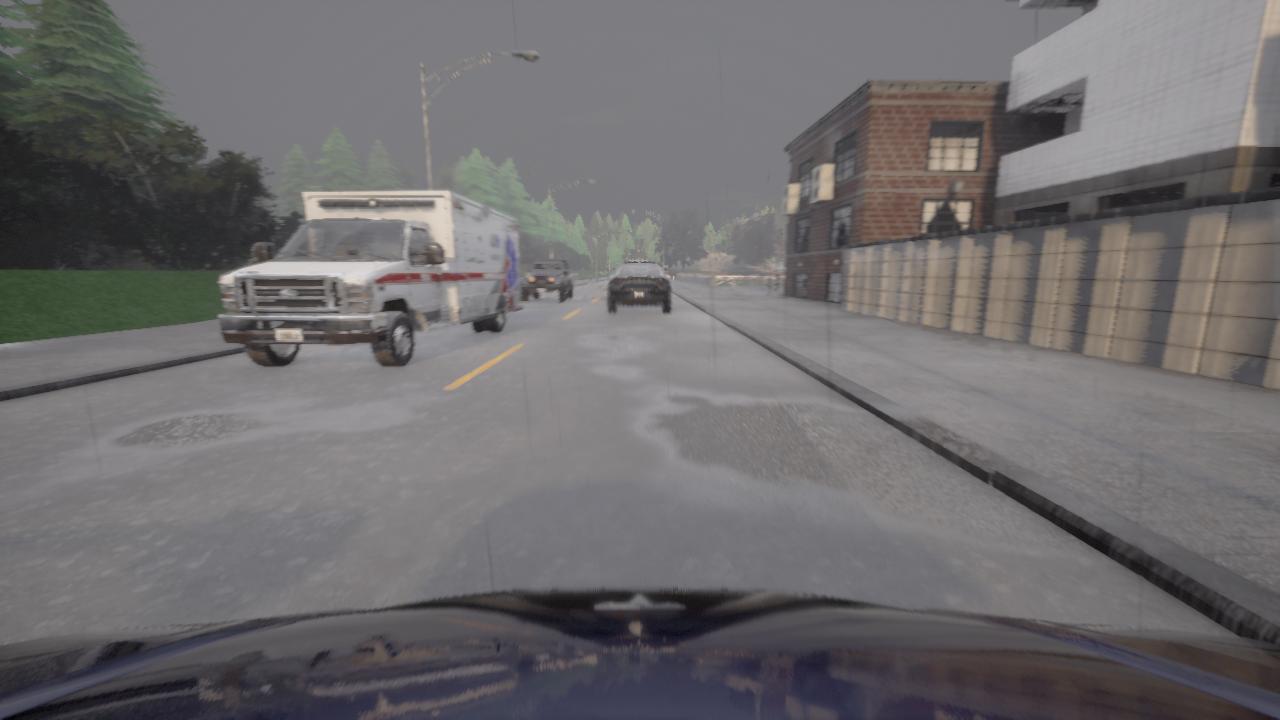cyclist: (0, 588, 1279, 719), (219, 191, 523, 367), (608, 260, 670, 312), (520, 259, 573, 301)
pedestrian: (765, 274, 773, 295), (775, 275, 778, 290)
